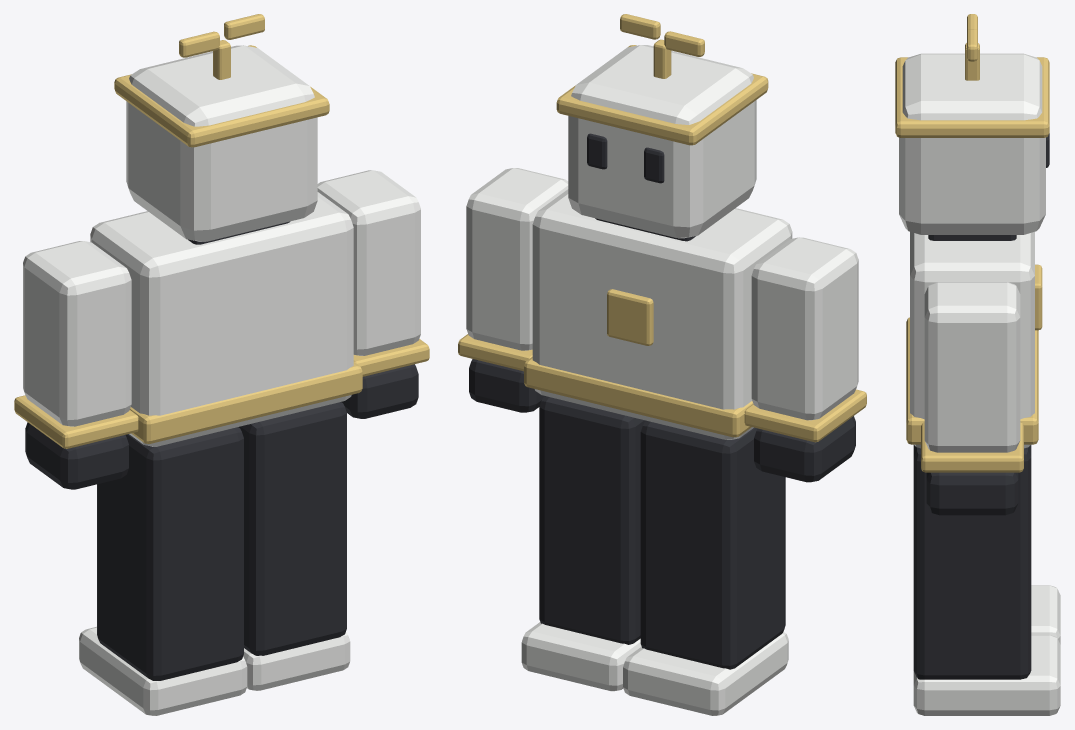
Rendered from Char_Player_01.fbx.
3 views of the same model, side by side, from view 1: azimuth 30°, elevation 25°; view 2: azimuth 150°, elevation 25°; view 3: azimuth 270°, elevation 25° (orthographic).
Parts seen in each view (by area): view 1: Torso_W, Leg_L_K, Head_W, Leg_R_K, Arm_L_W, Arm_R_W, Shoe_L_W, Belt_G, Band_G, Glove_L_K, Shoe_R_W, Glove_R_K (+4 smaller); view 2: Torso_W, Leg_L_K, Head_W, Leg_R_K, Arm_L_W, Arm_R_W, Shoe_L_W, Belt_G, Shoe_R_W, Band_G, Glove_L_K, Glove_R_K (+8 smaller); view 3: Head_W, Leg_R_K, Arm_R_W, Torso_W, Shoe_R_W, Glove_R_K, Band_G, Cuff_R_G, Belt_G, Shoe_L_W, Collar_K, Emblem_G (+2 smaller).
Part boxes in pixels (x1,y1,x2,y2): Torso_W: [90, 192, 353, 446]; Leg_L_K: [97, 427, 243, 680]; Head_W: [126, 45, 317, 241]; Leg_R_K: [239, 402, 346, 655]; Arm_L_W: [23, 241, 131, 426]; Arm_R_W: [317, 170, 420, 355]; Shoe_L_W: [79, 626, 247, 715]; Belt_G: [129, 362, 362, 443]; Band_G: [114, 45, 329, 147]; Glove_L_K: [25, 422, 128, 489]; Shoe_R_W: [243, 631, 350, 690]; Glove_R_K: [341, 364, 418, 418]; Torso_W: [532, 189, 792, 439]; Leg_L_K: [640, 420, 785, 669]; Head_W: [568, 45, 756, 238]; Leg_R_K: [539, 396, 645, 644]; Arm_L_W: [751, 237, 858, 420]; Arm_R_W: [466, 168, 568, 350]; Shoe_L_W: [623, 632, 788, 715]; Belt_G: [524, 357, 753, 437]; Shoe_R_W: [521, 622, 641, 691]; Band_G: [556, 45, 768, 145]; Glove_L_K: [754, 416, 855, 482]; Glove_R_K: [469, 359, 544, 412]; Head_W: [899, 53, 1045, 234]; Leg_R_K: [913, 445, 1031, 679]; Arm_R_W: [924, 282, 1020, 452]; Torso_W: [910, 231, 1034, 448]; Shoe_R_W: [913, 635, 1060, 715]; Glove_R_K: [926, 472, 1018, 515]; Band_G: [895, 57, 1049, 137]; Cuff_R_G: [921, 422, 1023, 472]; Belt_G: [906, 317, 1038, 444]; Shoe_L_W: [1031, 585, 1060, 644]; Collar_K: [928, 235, 1016, 240]; Emblem_G: [1035, 264, 1042, 330].
Size of the model in its own units: 1.14 by 1.94 by 0.45.
